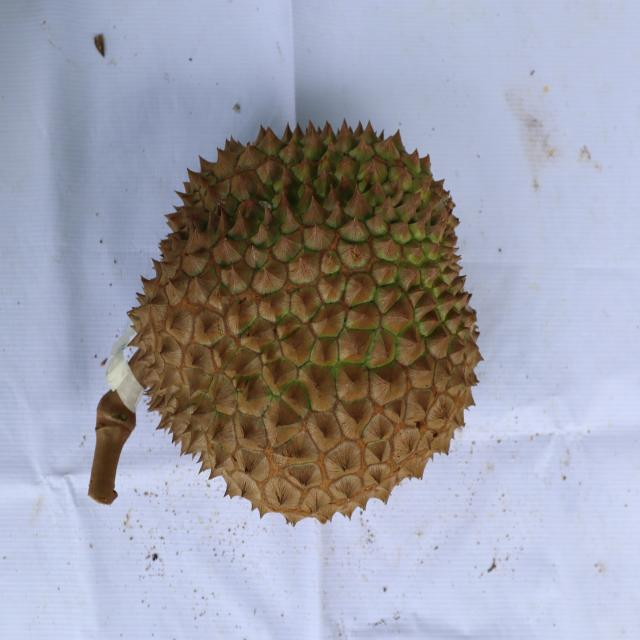mature: (128, 125, 485, 532)
